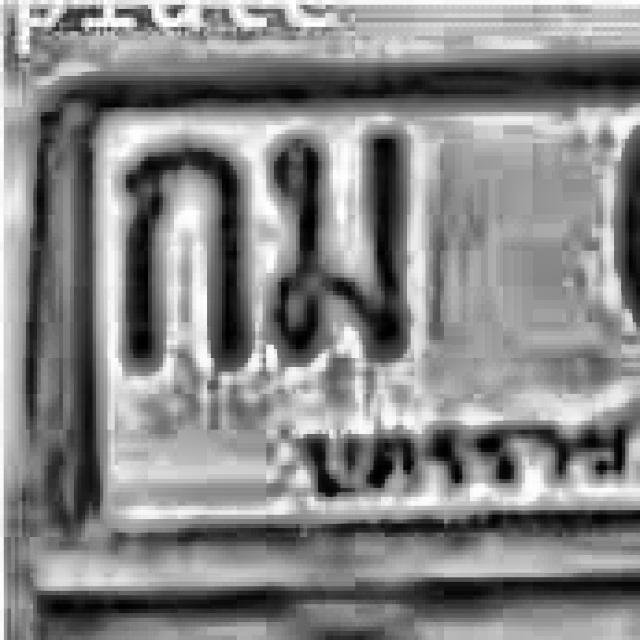license-plate: (24, 63, 640, 630)
